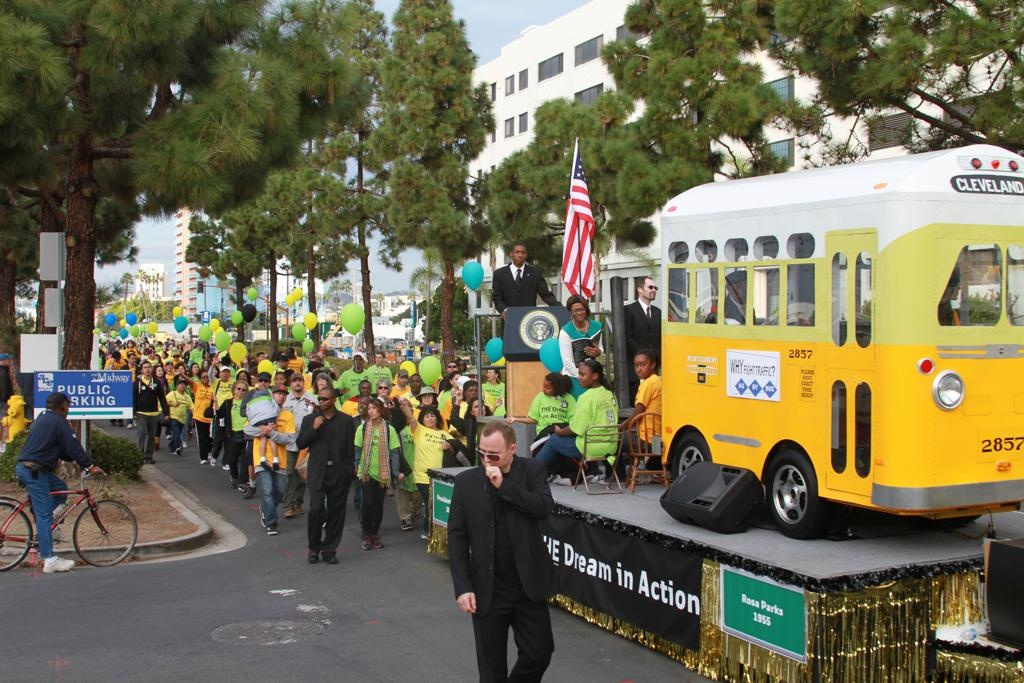human_face: (478, 439, 510, 471), (731, 278, 749, 302), (633, 354, 651, 378), (945, 276, 961, 298), (578, 369, 594, 387), (316, 392, 332, 408), (642, 280, 656, 298), (512, 247, 526, 265), (572, 304, 586, 320), (423, 410, 437, 426), (471, 401, 485, 417), (366, 402, 380, 418), (466, 386, 478, 402), (542, 380, 554, 394), (420, 390, 432, 404), (291, 375, 303, 389), (234, 383, 248, 395), (410, 377, 420, 391), (274, 389, 284, 403), (446, 362, 456, 374), (359, 383, 369, 395), (352, 355, 362, 367), (317, 378, 327, 390), (274, 374, 284, 386), (259, 376, 269, 388), (358, 399, 366, 413), (61, 401, 67, 419), (238, 372, 248, 382), (452, 374, 460, 386), (378, 383, 386, 395), (486, 368, 494, 379), (399, 372, 407, 383), (220, 368, 228, 379), (374, 354, 382, 364), (278, 359, 286, 369), (177, 381, 185, 391), (142, 364, 150, 374), (200, 373, 208, 382), (176, 366, 184, 374), (458, 361, 464, 371), (128, 355, 136, 362), (156, 366, 162, 375), (192, 364, 198, 372), (211, 367, 217, 375), (202, 360, 208, 368), (173, 352, 179, 360), (250, 358, 256, 366), (287, 350, 293, 357), (166, 362, 172, 369), (197, 342, 203, 349), (258, 355, 264, 361), (126, 341, 132, 347), (161, 352, 165, 358), (154, 356, 158, 362), (162, 344, 166, 350), (148, 346, 152, 352)
